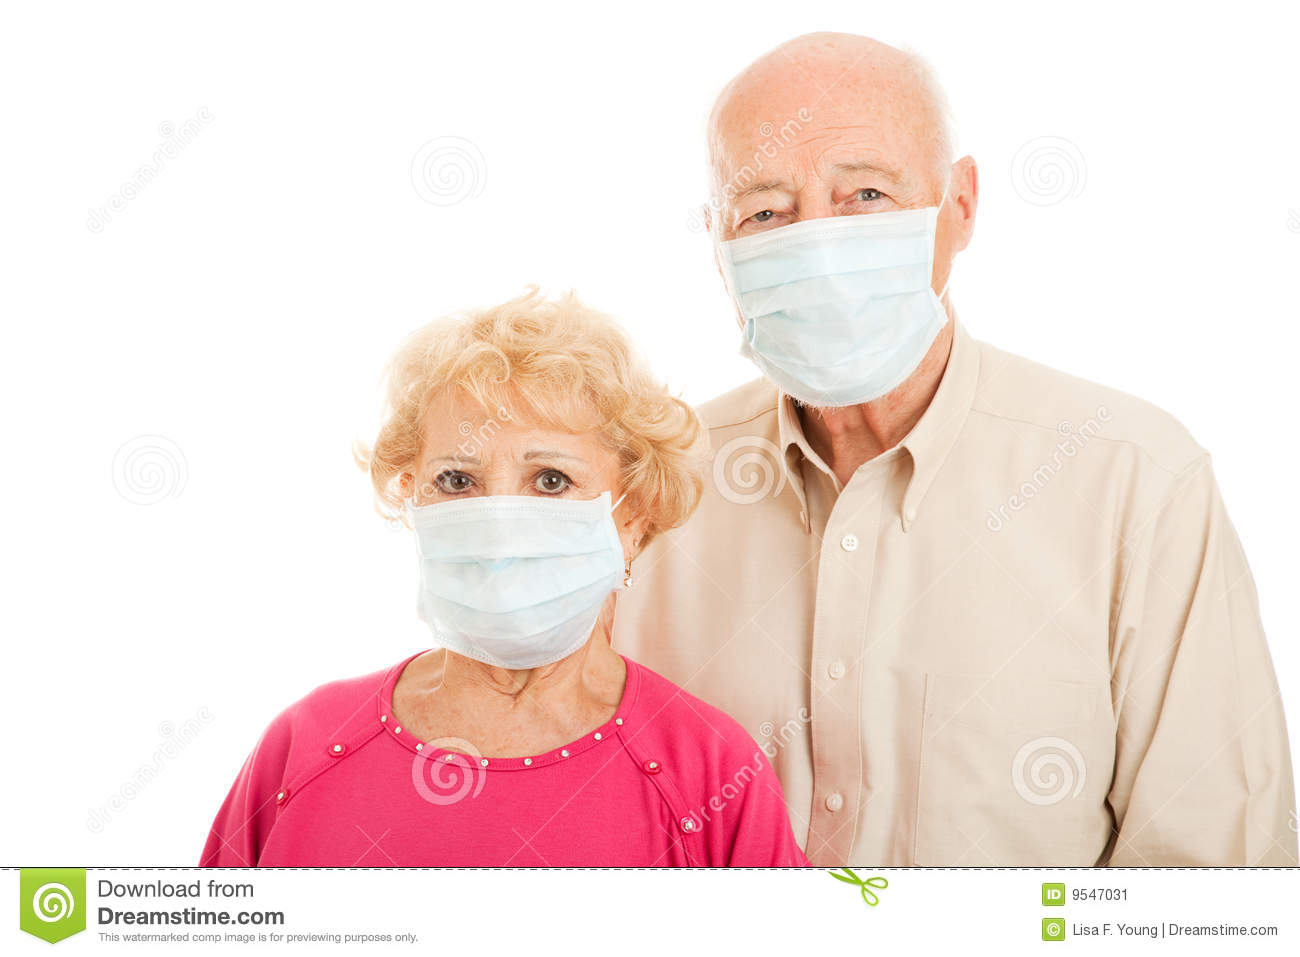mask: (719, 220, 954, 416), (406, 496, 623, 658)
